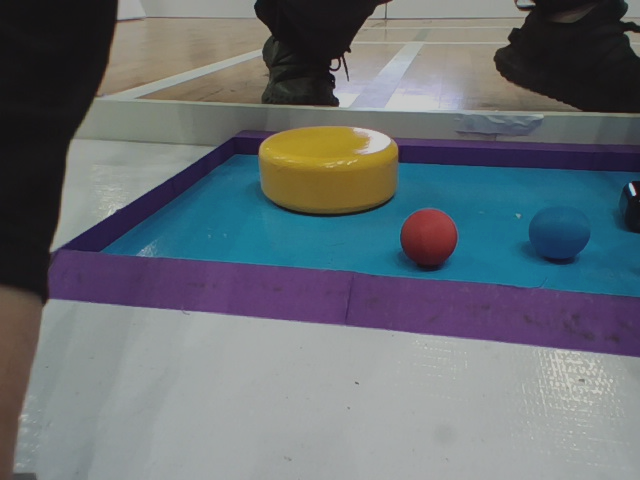blue: (528, 207, 591, 259)
kuang: (35, 106, 640, 359)
red: (397, 208, 456, 265)
yellow: (257, 127, 401, 212)
